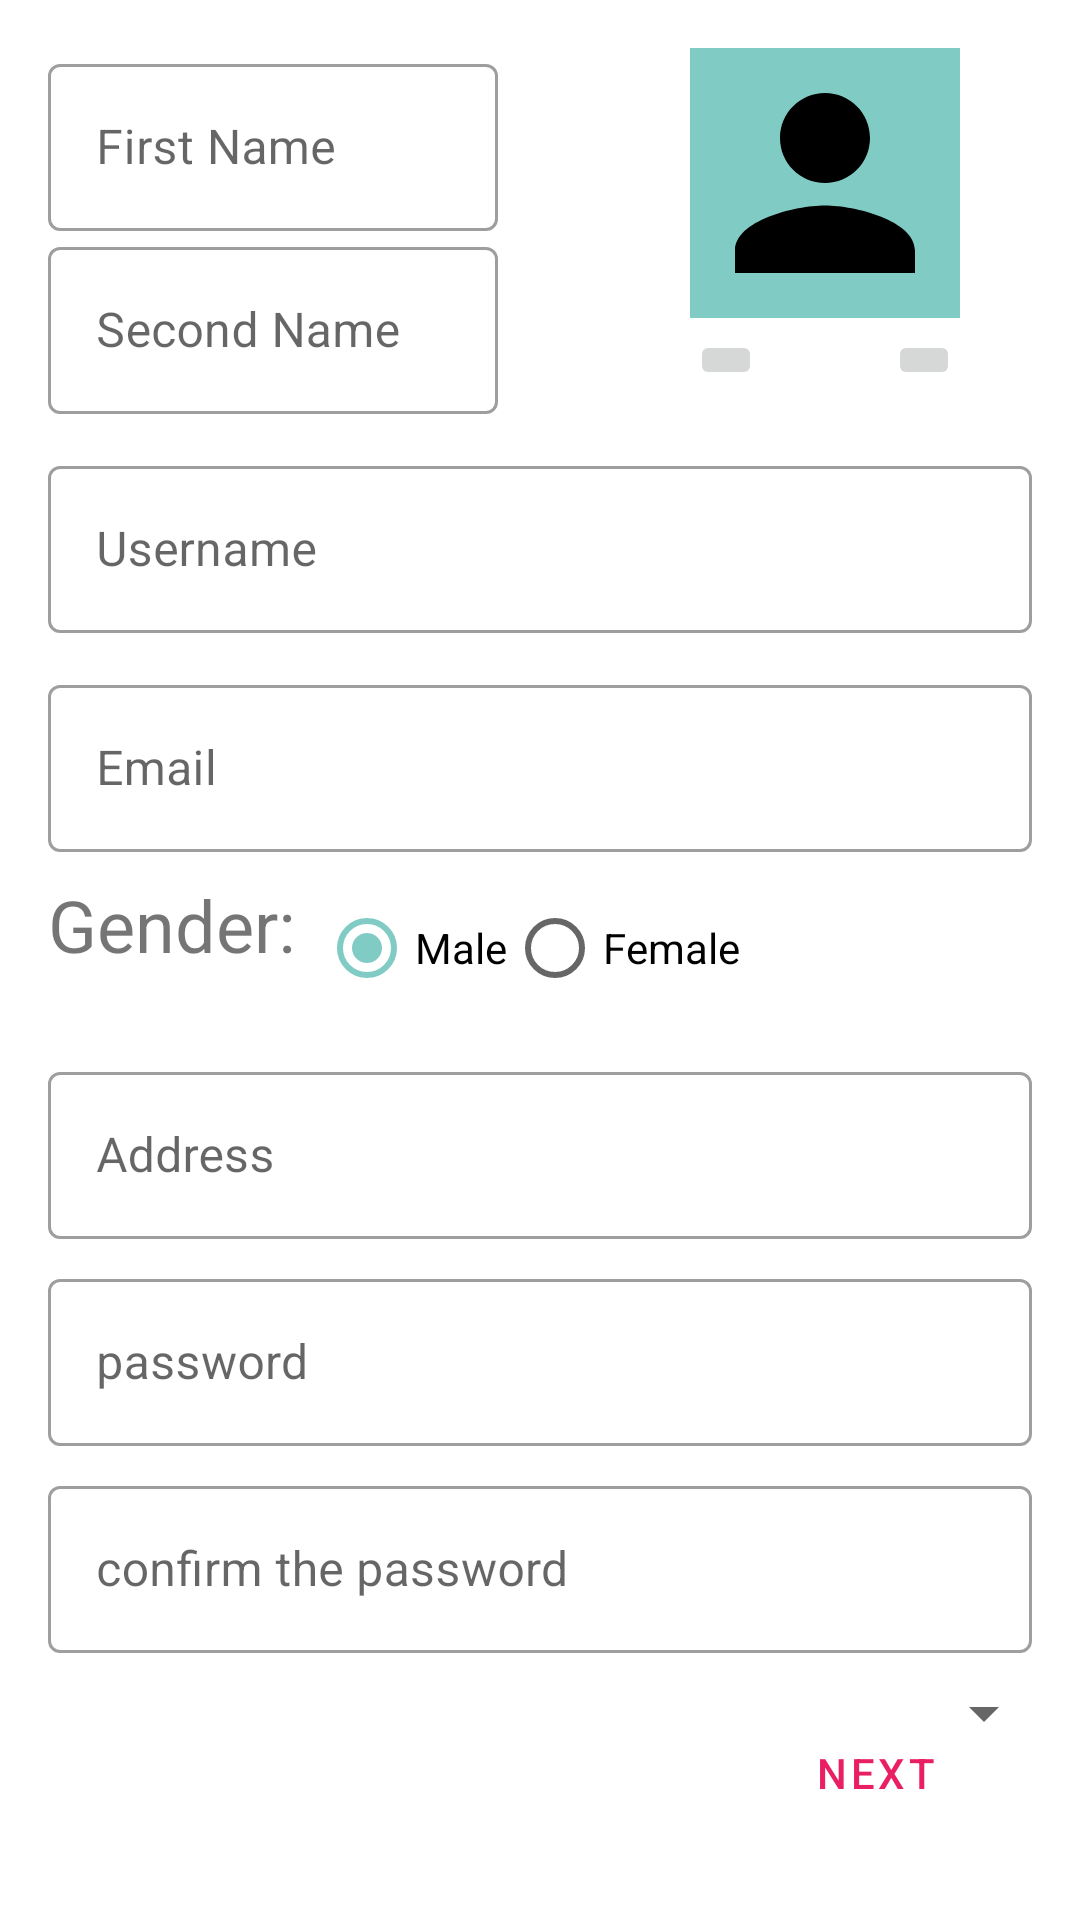

Locate icon controls on the screen. Image size 1080w x 1920h, boxes as (x1, y1, x2, y2).
person: (690, 48, 960, 318)
